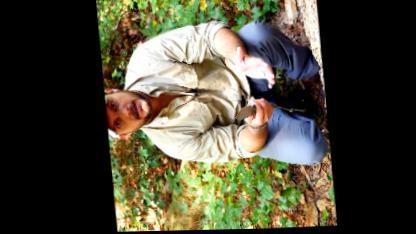knife: (226, 96, 273, 124)
